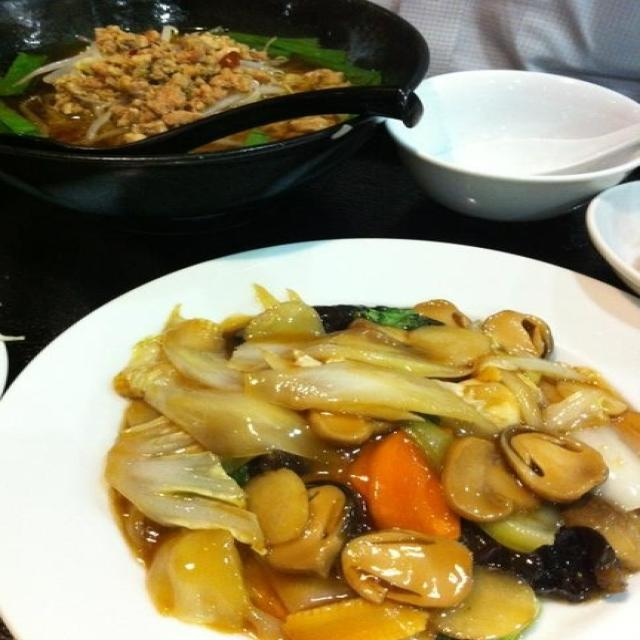蛋糕甜品: (125, 151, 508, 501)
